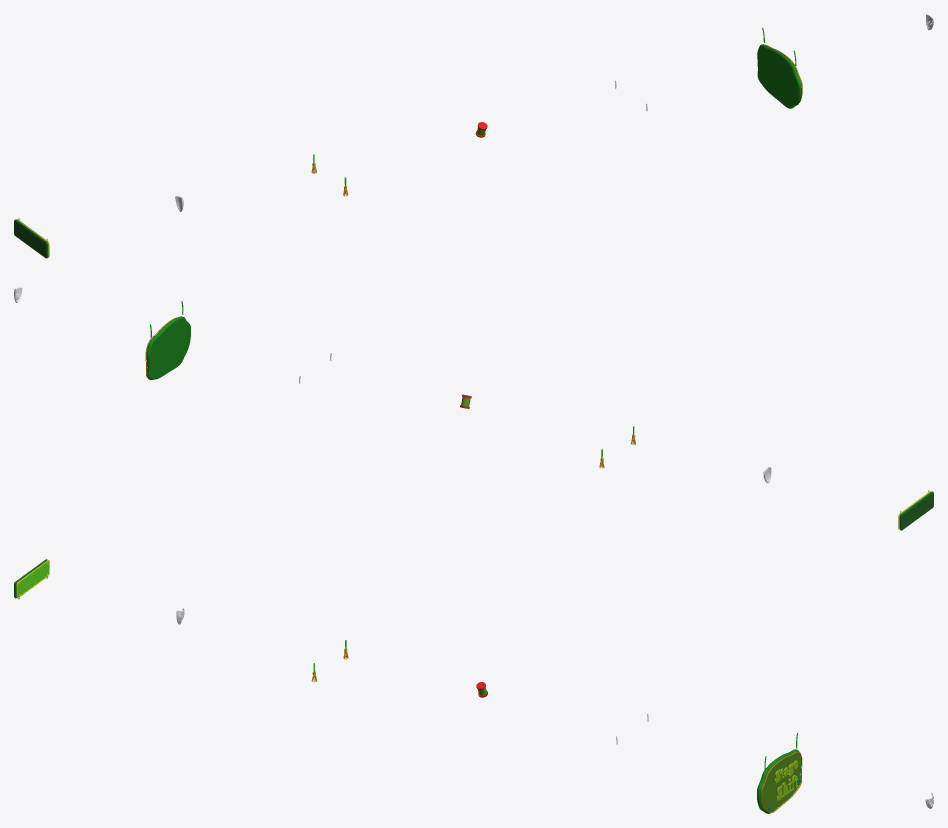
Rendered from 01_Title_high.fbx.
3 views of the same model, one above another, from view 1: azimuth 30°, elevation 25°; view 2: azimuth 150°, elevation 25°; view 3: azimuth 330°, elevation 25° (orthographic).
Parts seen in each view (by area): view 1: TitleSign_high, ButtonPlaque_high; view 2: TitleSign_high, ButtonPlaque_high; view 3: TitleSign_high, ButtonPlaque_high.
Part boxes in pixels (left/top/right/bottom): TitleSign_high: left=757, top=27, right=802, bottom=108; ButtonPlaque_high: left=14, top=218, right=49, bottom=258; TitleSign_high: left=145, top=301, right=190, bottom=379; ButtonPlaque_high: left=898, top=490, right=933, bottom=530; TitleSign_high: left=757, top=733, right=802, bottom=813; ButtonPlaque_high: left=14, top=559, right=49, bottom=599.
Size of the model in its own units: 2116 by 172 by 136.
